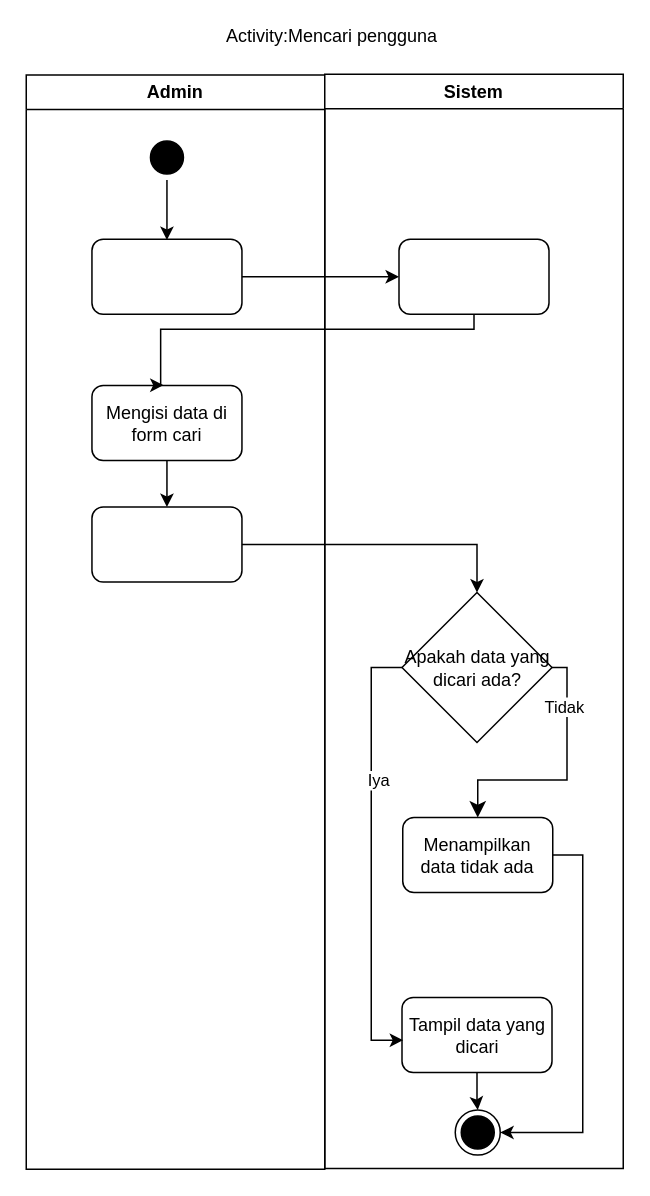
The diagram is 650 pixels wide and 1196 high, and some of its shapes have lost their labels. Each missing label, with the centre of its shape:
"Memilih cari" belongs at (166,544).
"Memilih kelola pengguna" belongs at (166,276).
"Tampil kelola pengguna" belongs at (473,276).
